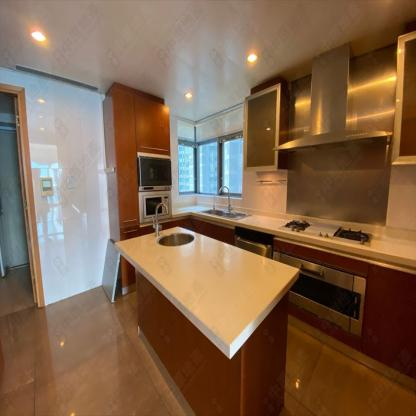Cupboard: (242, 84, 277, 171)
Exhaust Hood: (272, 42, 393, 155)
Faucet: (153, 200, 169, 234), (214, 183, 233, 211)
Oven: (271, 249, 368, 336), (138, 152, 171, 224)
Sink: (199, 207, 252, 220), (157, 232, 194, 246)
Stove: (276, 218, 372, 248)
